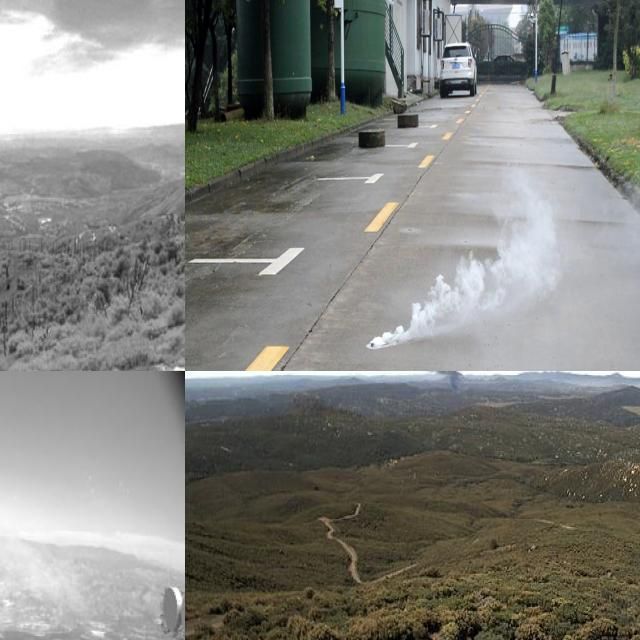smoke: (365, 180, 561, 350), (0, 516, 103, 640), (604, 192, 640, 270), (415, 371, 465, 395)
